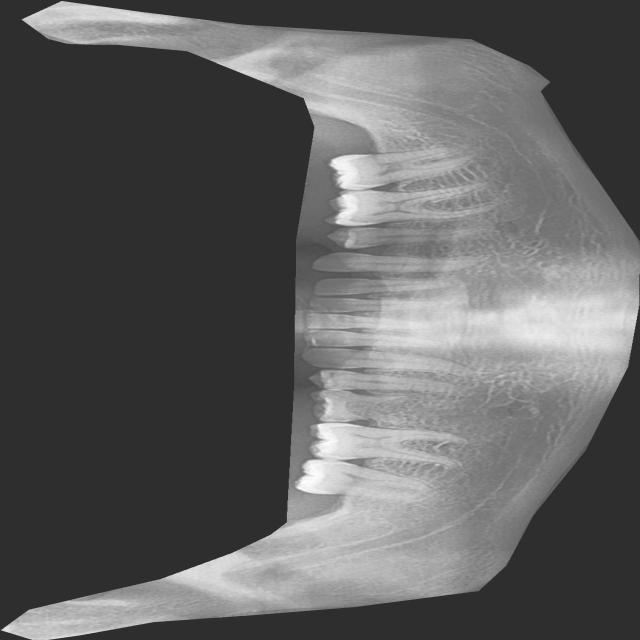mandibula: (1, 0, 640, 640)
